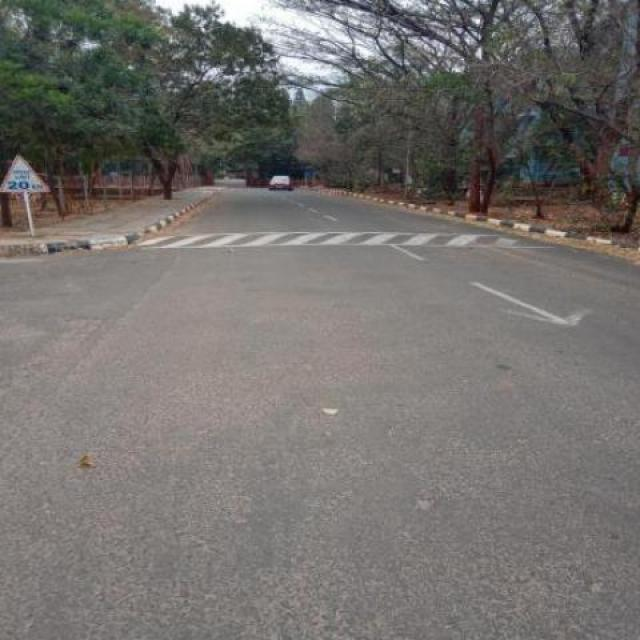Speed Bump: (146, 230, 541, 249)
